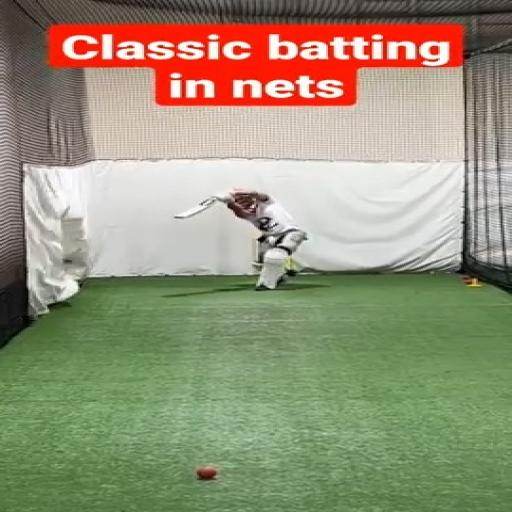Cricket bat: (176, 197, 218, 219)
